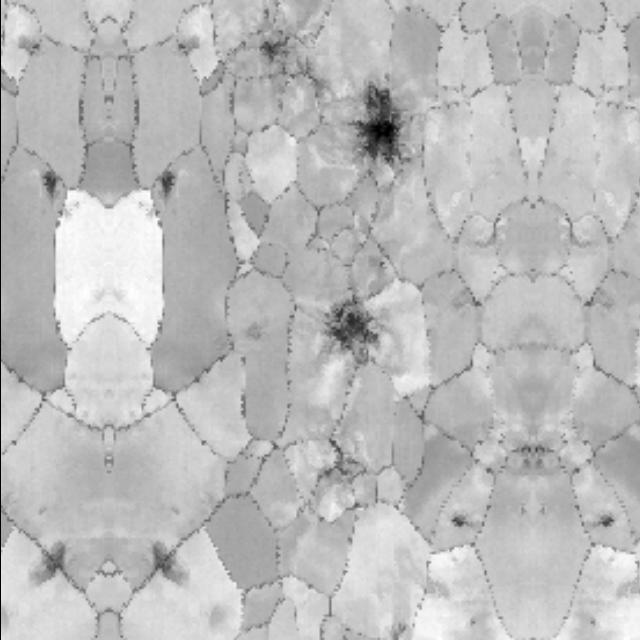good_void: (352, 78, 405, 180), (307, 430, 371, 509), (317, 306, 380, 368), (141, 534, 197, 589), (17, 534, 73, 589), (250, 34, 290, 72), (146, 161, 183, 200), (31, 161, 68, 200), (440, 500, 474, 533), (589, 500, 623, 533), (173, 27, 201, 60), (13, 27, 41, 60), (238, 320, 271, 347)
